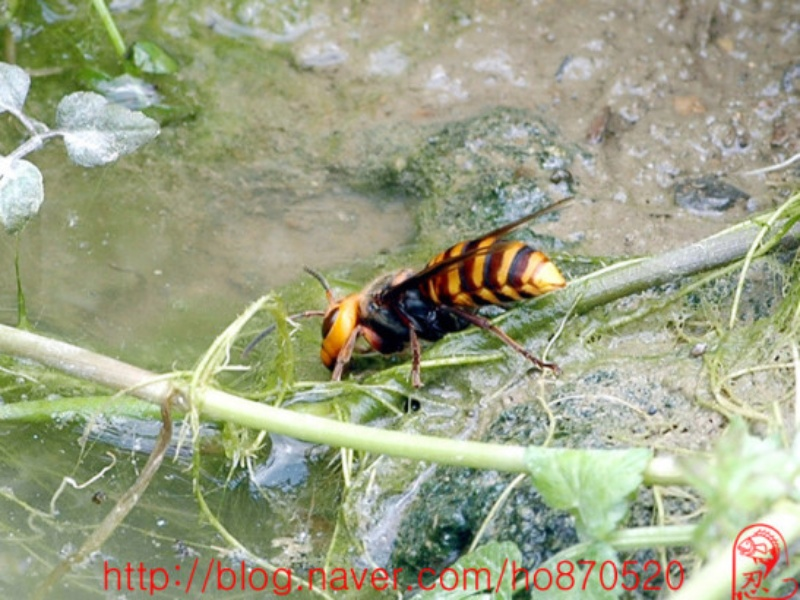asian_giant_hornet: (306, 232, 569, 387)
